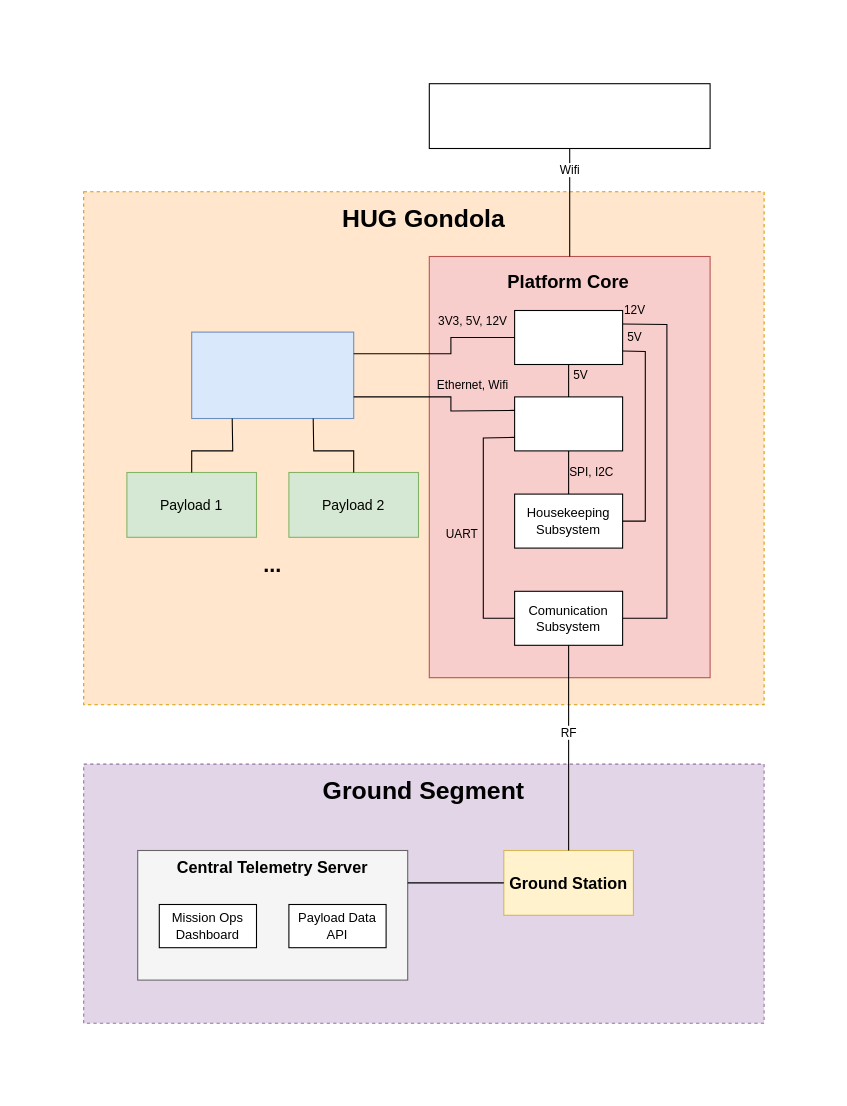
Image size: 847x1106. Some labels were removed from this diagram. Each missing label, with the box of its shape:
Flight Computer: (514, 396, 623, 451)
Flight Termination System: (428, 83, 710, 148)
Payload interface subsystem: (191, 331, 354, 418)
Power Subsystem: (514, 309, 623, 364)
